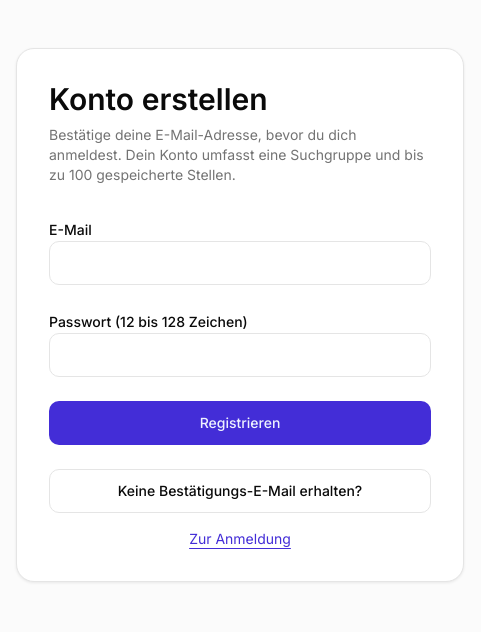
zeigt API- und unerwartete Registrierungsfehler (true)
This screenshot has width=481, height=632.
In the field labelled "E-Mail": (240, 263) [49,241,431,285], type "USER@example.test"
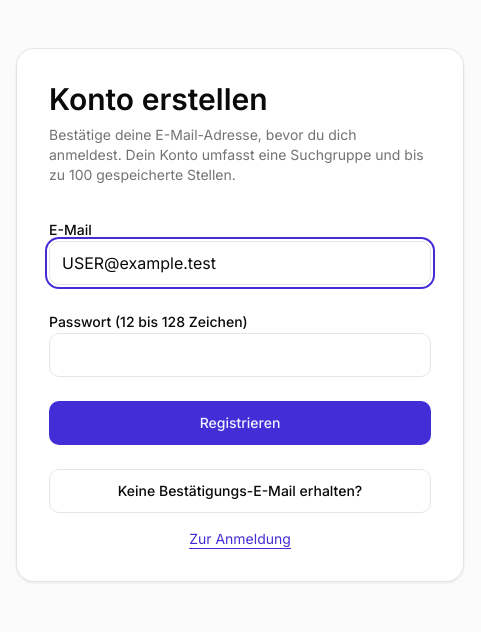
In the password field labelled "Passwort (12 bis 128 Zeichen)": (240, 355) [49,333,431,377], type "Test-Passwort-2026"
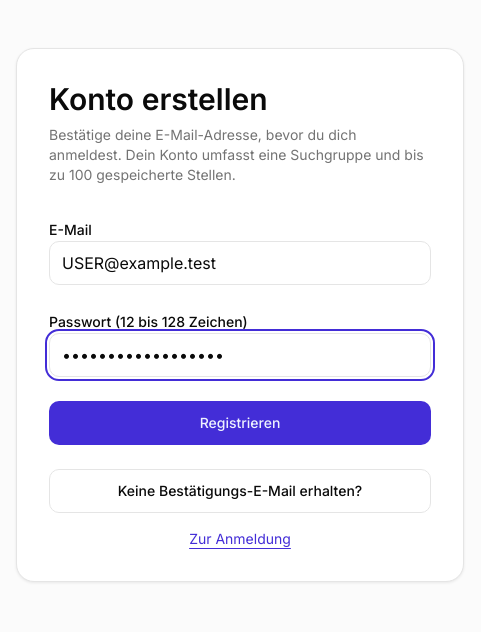
Click the button "Registrieren": (240, 423) [49,401,431,445]
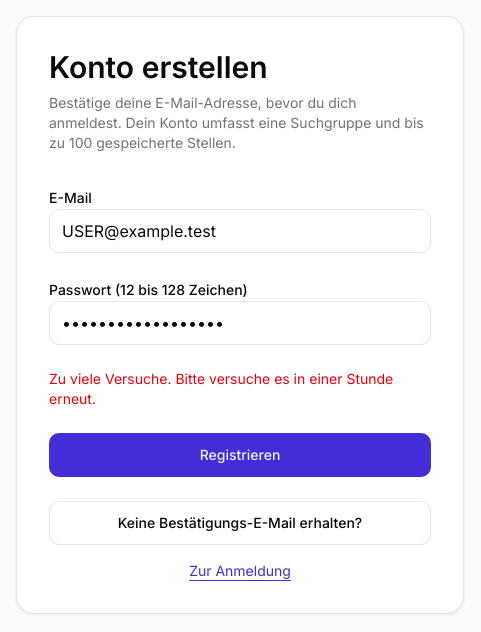
Check: the text "Zu viele Versuche. Bitte versuche es in einer Stunde erneut." is shown, box [49,369,431,409]
